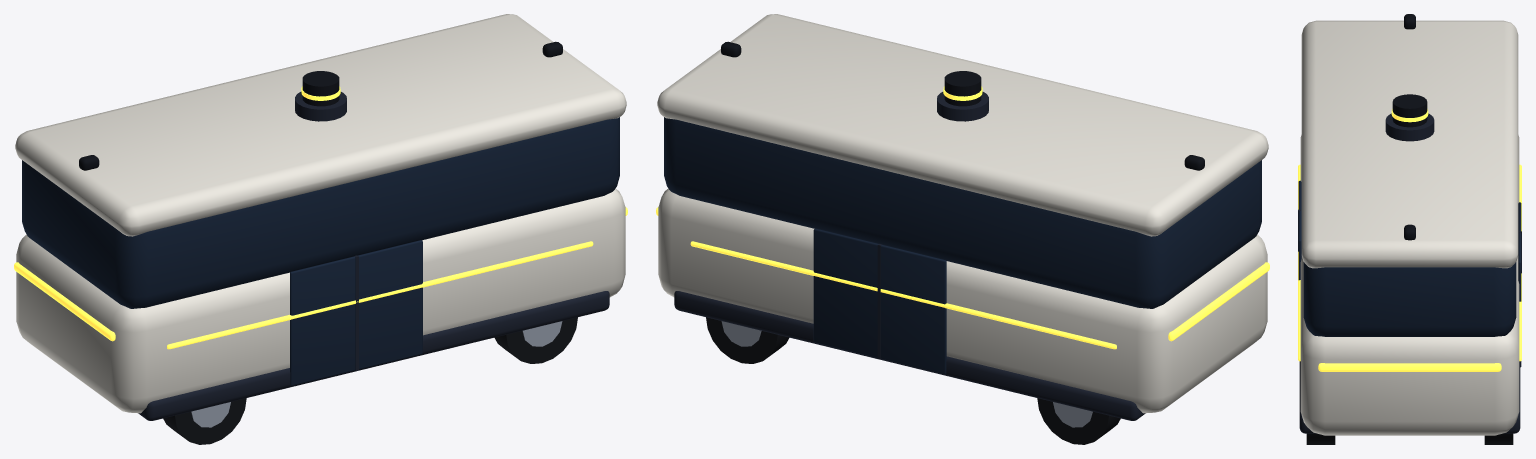
The model's file is shuttle.glb.
3 renders of one model, left to right at view 1: azimuth 30°, elevation 25°; view 2: azimuth 150°, elevation 25°; view 3: azimuth 270°, elevation 25°, orthographic. The views are drawn at different scales.
Visible parts, largest first — view 1: shuttle; view 2: shuttle; view 3: shuttle.
Boxes of the visible parts, x1,y1,x2,y2 form: shuttle: (14,14,627,444); shuttle: (656,14,1269,444); shuttle: (1298,14,1521,444).
Size of the model in its own units: 5.47 by 2.87 by 2.2.
